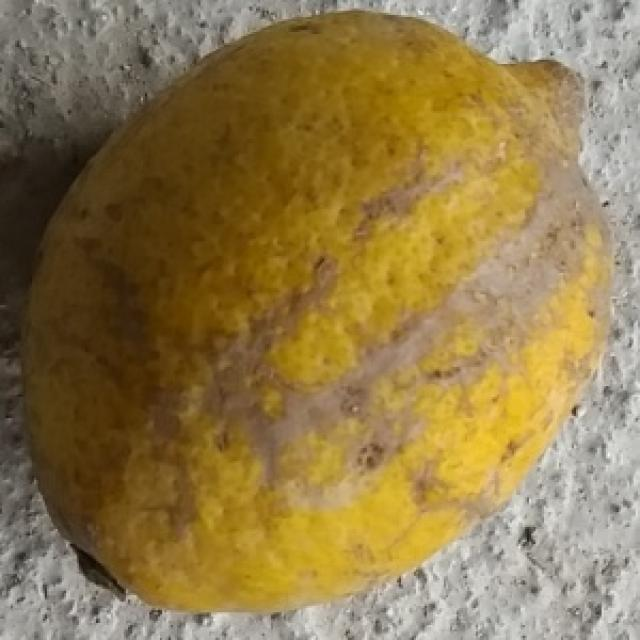overripe: (14, 6, 617, 620)
